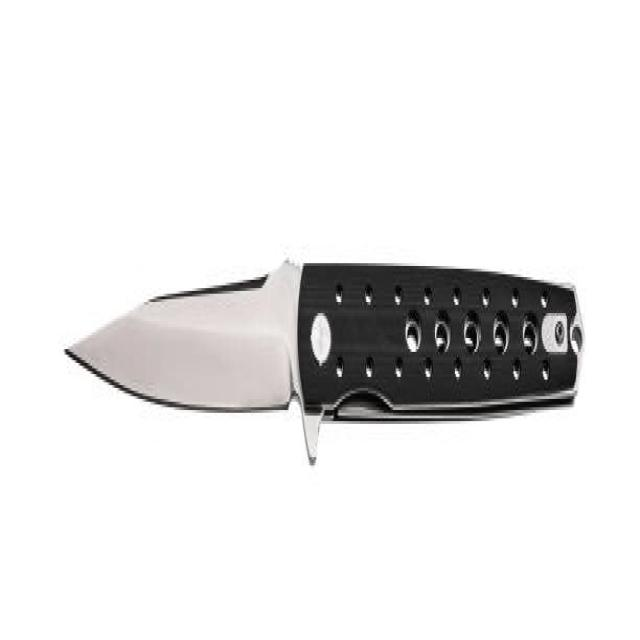knife: (59, 249, 587, 470)
